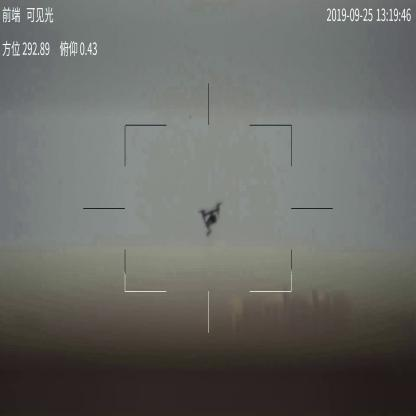uav: (199, 200, 223, 237)
